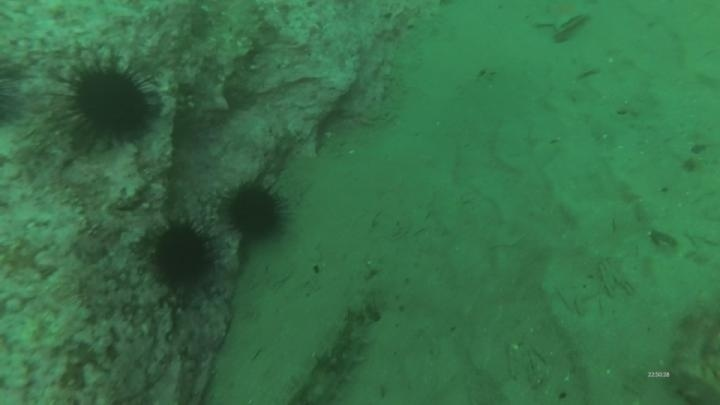echinus: (59, 56, 157, 149), (145, 217, 219, 292), (220, 177, 292, 244)
holothurian: (284, 299, 378, 405), (663, 302, 720, 405)
starfish: (527, 2, 596, 35)
